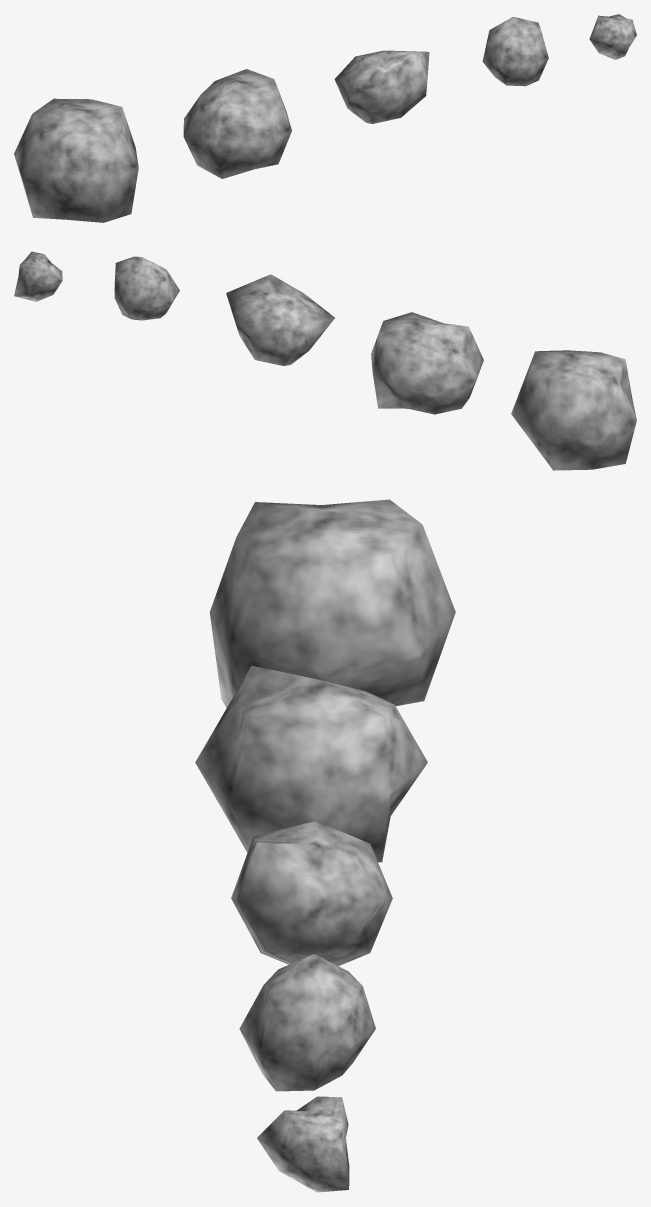
Rendered from ps1_style_low_poly_asteroids.glb.
The picture shows the model from 3 angles, top to bottom: view 1: azimuth 30°, elevation 25°; view 2: azimuth 150°, elevation 25°; view 3: azimuth 270°, elevation 25°; orthographic projection. The views are drawn at different scales.
Parts seen in each view (by area): view 1: asteroid 01.005, asteroid 01.006, asteroid 01.007, asteroid 01.008, asteroid 01.009; view 2: asteroid 01.005, asteroid 01.006, asteroid 01.007, asteroid 01.008, asteroid 01.009; view 3: asteroid 01.005, asteroid 01.006, asteroid 01.007, asteroid 01.008, asteroid 01.009.
Part boxes in pixels (x1,y1,x2,y2): asteroid 01.005: (14,98,138,222); asteroid 01.006: (183,69,291,178); asteroid 01.007: (334,50,429,123); asteroid 01.008: (482,17,548,86); asteroid 01.009: (589,14,636,59); asteroid 01.005: (511,350,636,470); asteroid 01.006: (371,312,483,414); asteroid 01.007: (226,274,334,365); asteroid 01.008: (114,256,179,320); asteroid 01.009: (14,251,62,301); asteroid 01.005: (209,499,455,707); asteroid 01.006: (195,665,427,862); asteroid 01.007: (231,821,392,965); asteroid 01.008: (239,954,375,1091); asteroid 01.009: (257,1096,349,1192).
Size of the model in its own units: 20.68 by 3.25 by 3.85.
Materials: 1 (1 with a texture image).
